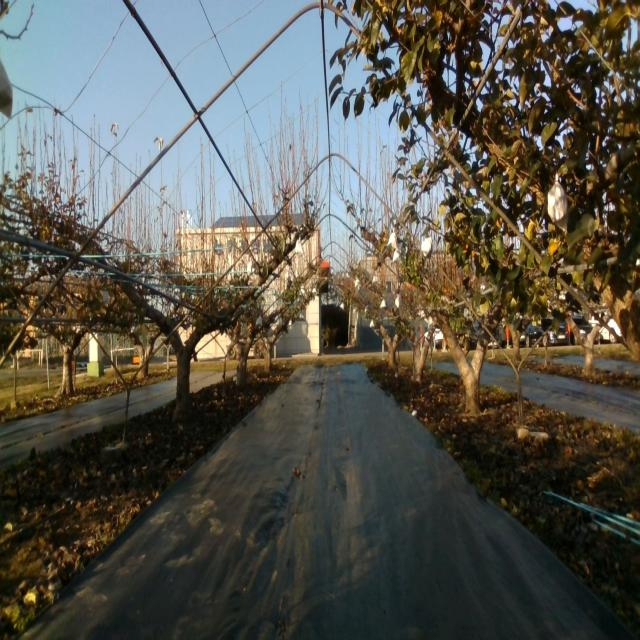pearbags: (546, 181, 570, 235), (421, 237, 433, 261)
